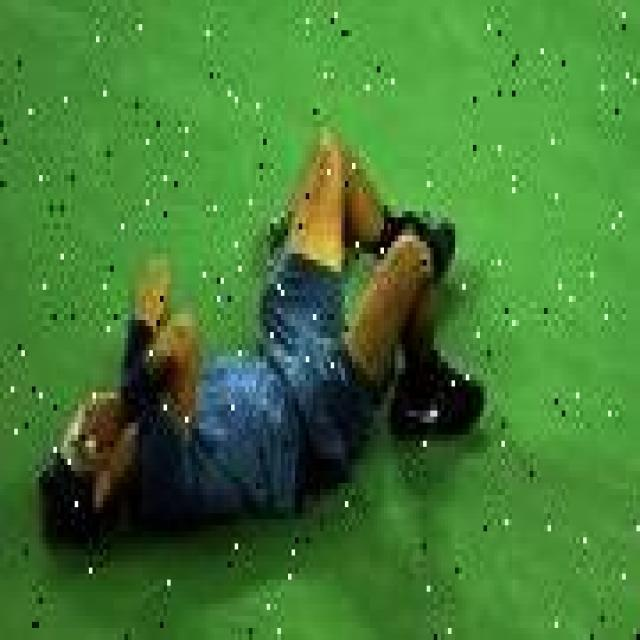fall: (49, 138, 470, 526)
